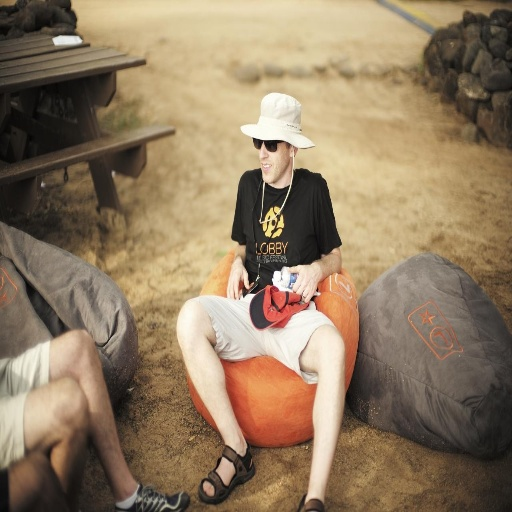hand: (288, 257, 328, 304), (226, 259, 251, 297)
